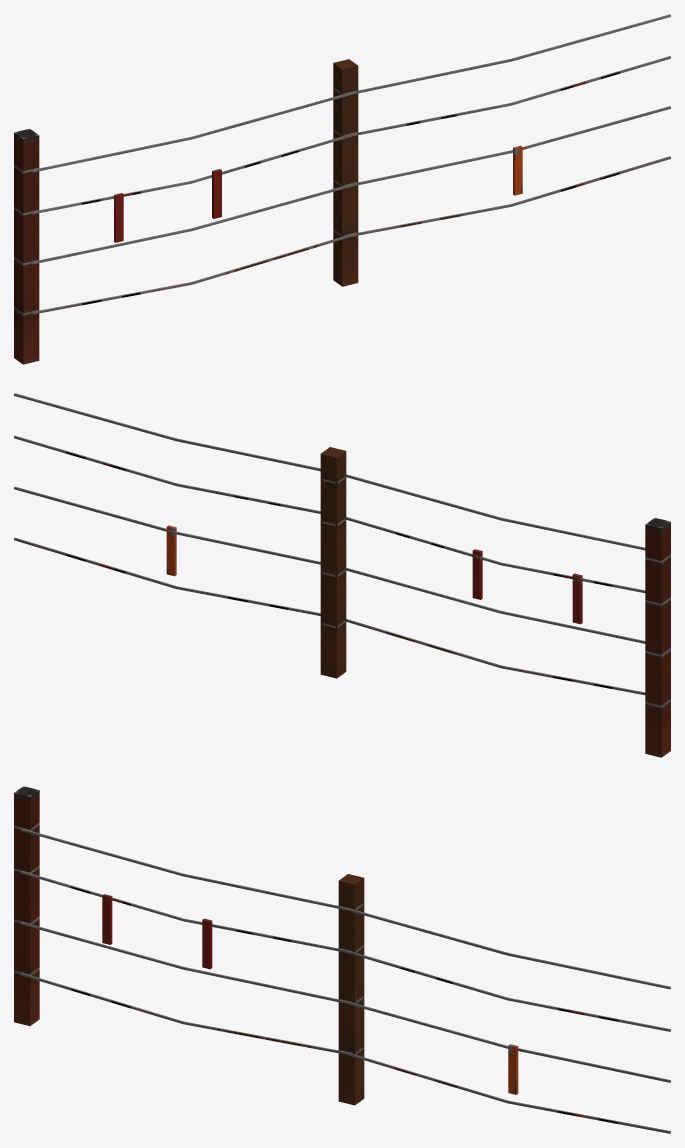
Rendered from wire_fence.glb.
The picture shows the model from 3 angles, top to bottom: view 1: azimuth 30°, elevation 25°; view 2: azimuth 150°, elevation 25°; view 3: azimuth 330°, elevation 25°; orthographic projection.
Parts seen in each view (by area): view 1: wire_fence; view 2: wire_fence; view 3: wire_fence.
Part boxes in pixels (x1=…): wire_fence: x1=14, y1=14, x2=670, y2=364; wire_fence: x1=14, y1=393, x2=670, y2=757; wire_fence: x1=14, y1=786, x2=670, y2=1133.
Bounding box in the file's own units: 4.05 × 1.35 × 0.13.
1 material, 1 textured.
